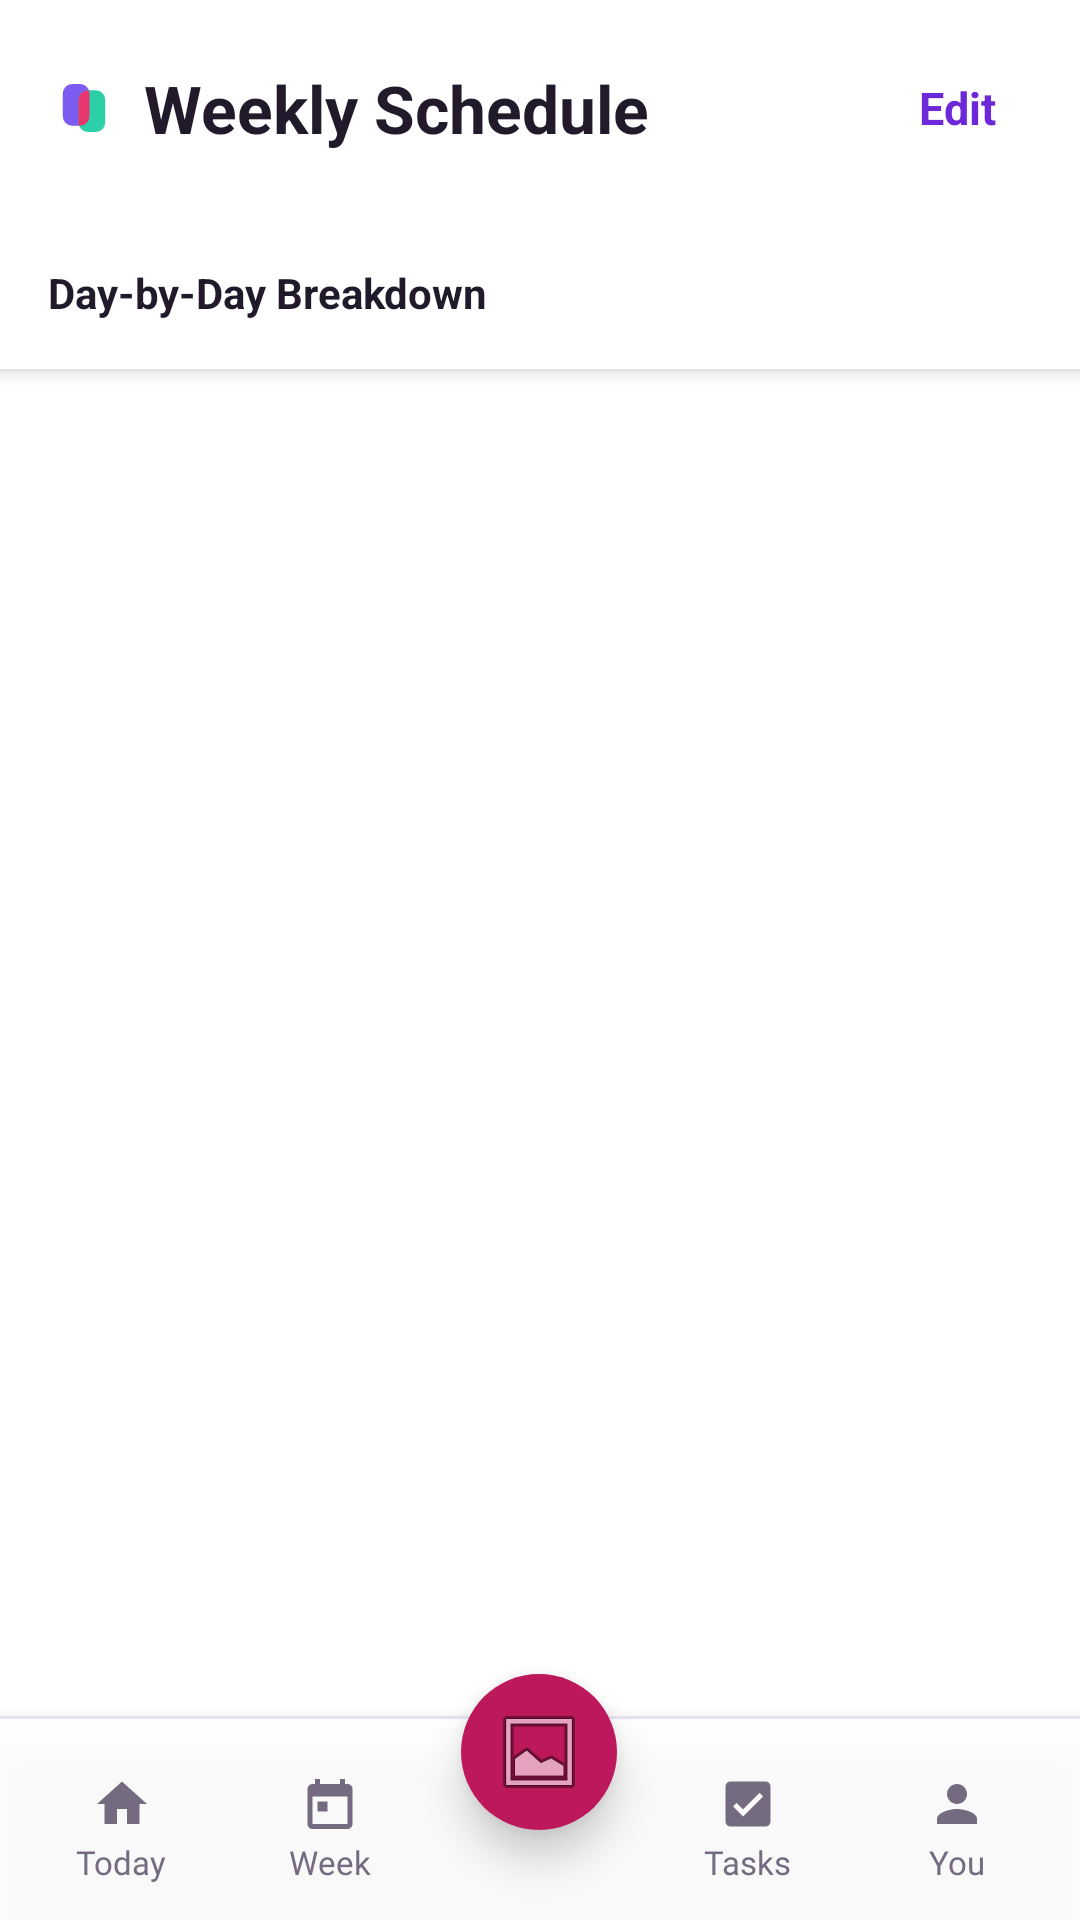

Icons on this 1080 x 1920 Android screen, each with its box as (x1, y1, x2, y2):
today person: (937, 1784, 977, 1824)
